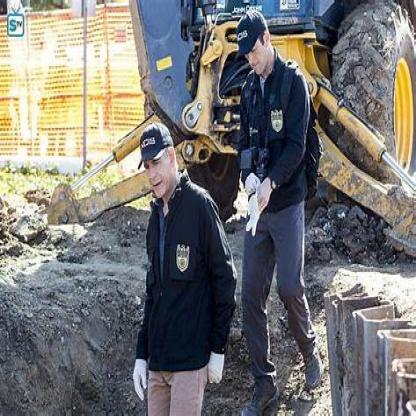person: (230, 6, 345, 402), (133, 103, 239, 415)
